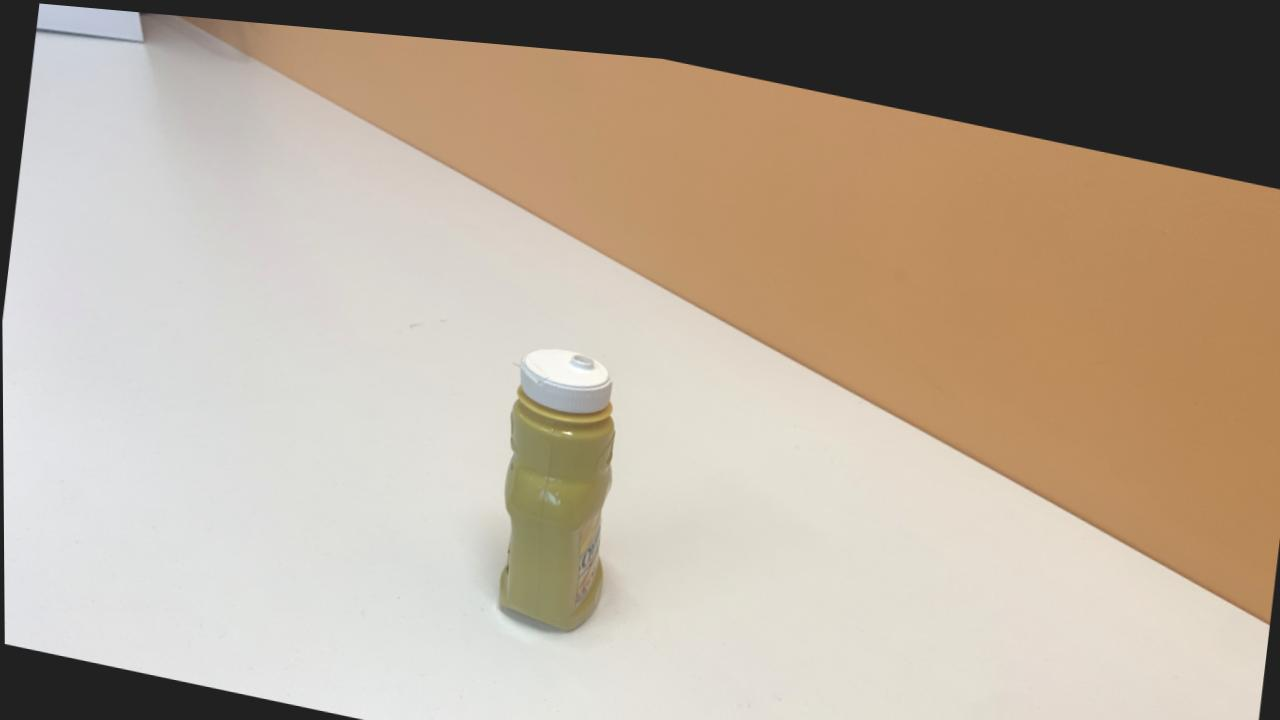Mustard-Pantry_Items: (496, 340, 617, 625)
